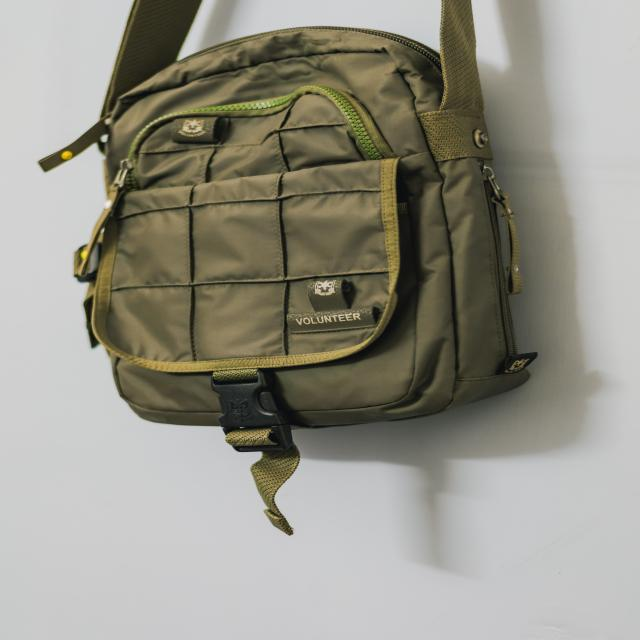backpack: (74, 0, 521, 424)
